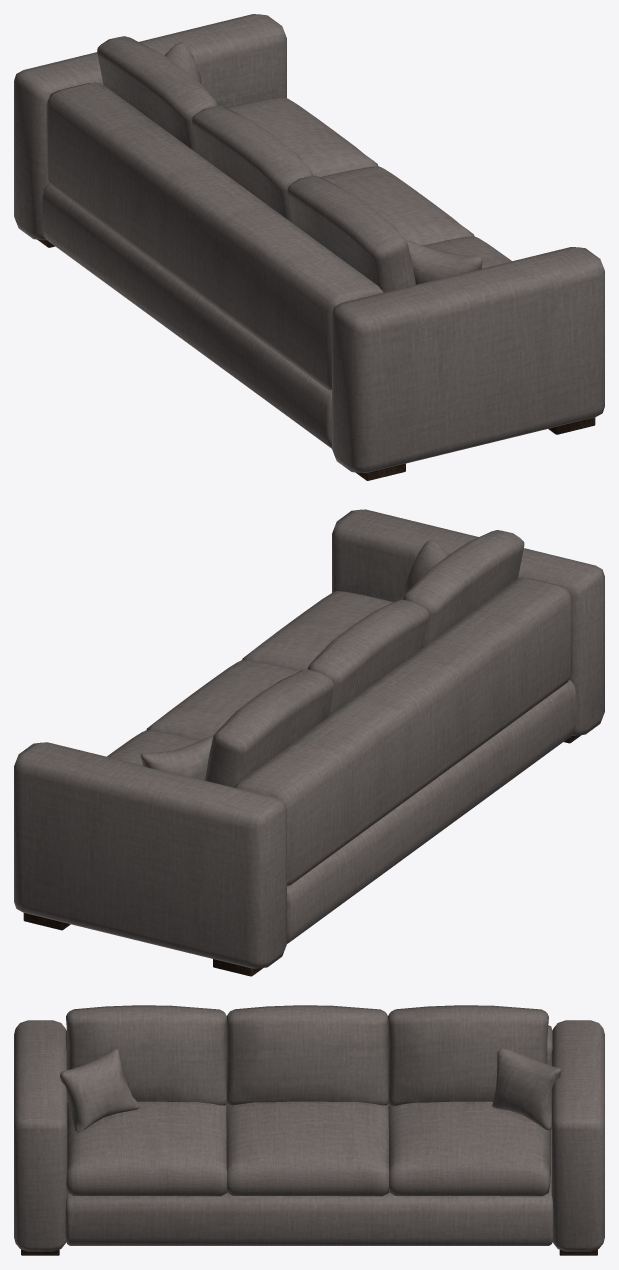
The model's file is sofa03.glb.
The picture shows the model from 3 angles, top to bottom: view 1: azimuth 30°, elevation 25°; view 2: azimuth 150°, elevation 25°; view 3: azimuth 270°, elevation 25°; orthographic projection. The views are drawn at different scales.
Visible parts, largest first — view 1: sofa; view 2: sofa; view 3: sofa.
Part boxes in pixels (x1,y1,x2,y2): sofa: [14, 14, 604, 480]; sofa: [14, 509, 604, 976]; sofa: [14, 1005, 604, 1255].
Bounding box in the file's own units: 0.8387 × 0.6593 × 2.
1 material, 1 textured.
